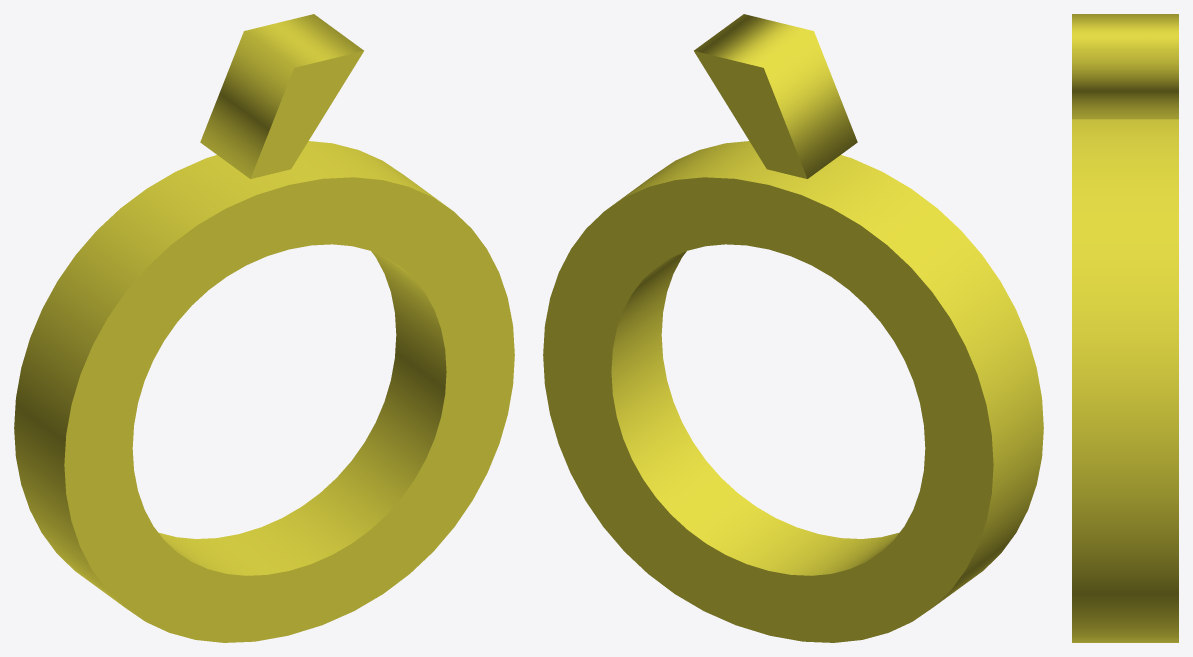
The picture shows the model from 3 angles, left to right: view 1: azimuth 30°, elevation 25°; view 2: azimuth 150°, elevation 25°; view 3: azimuth 270°, elevation 25°; orthographic projection. The views are drawn at different scales.
Visible parts, largest first — view 1: Text.002; view 2: Text.002; view 3: Text.002.
Part boxes in pixels (<box>): Text.002: <box>14,14,514,642</box>; Text.002: <box>543,14,1043,642</box>; Text.002: <box>1072,14,1178,642</box>.
Bounding box in the file's own units: 3.73 × 4.48 × 0.72.
